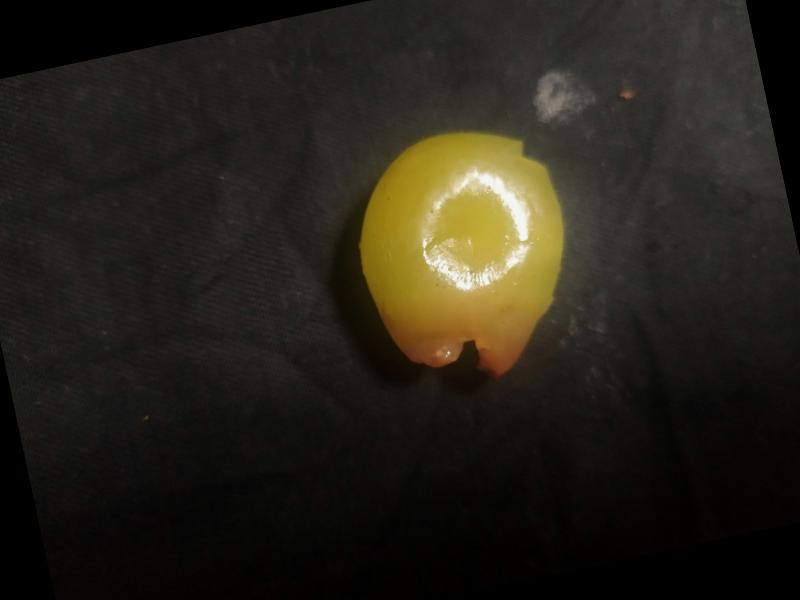Grape Overripe: (333, 108, 594, 400)
